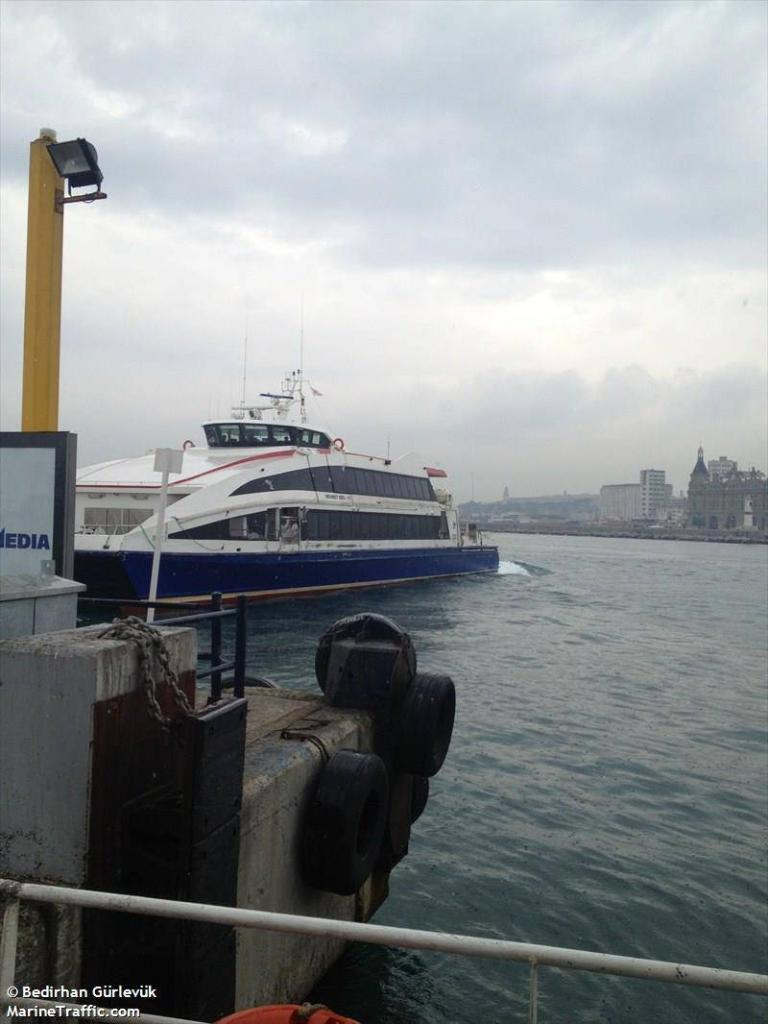PassengerShip: (67, 317, 508, 621)
